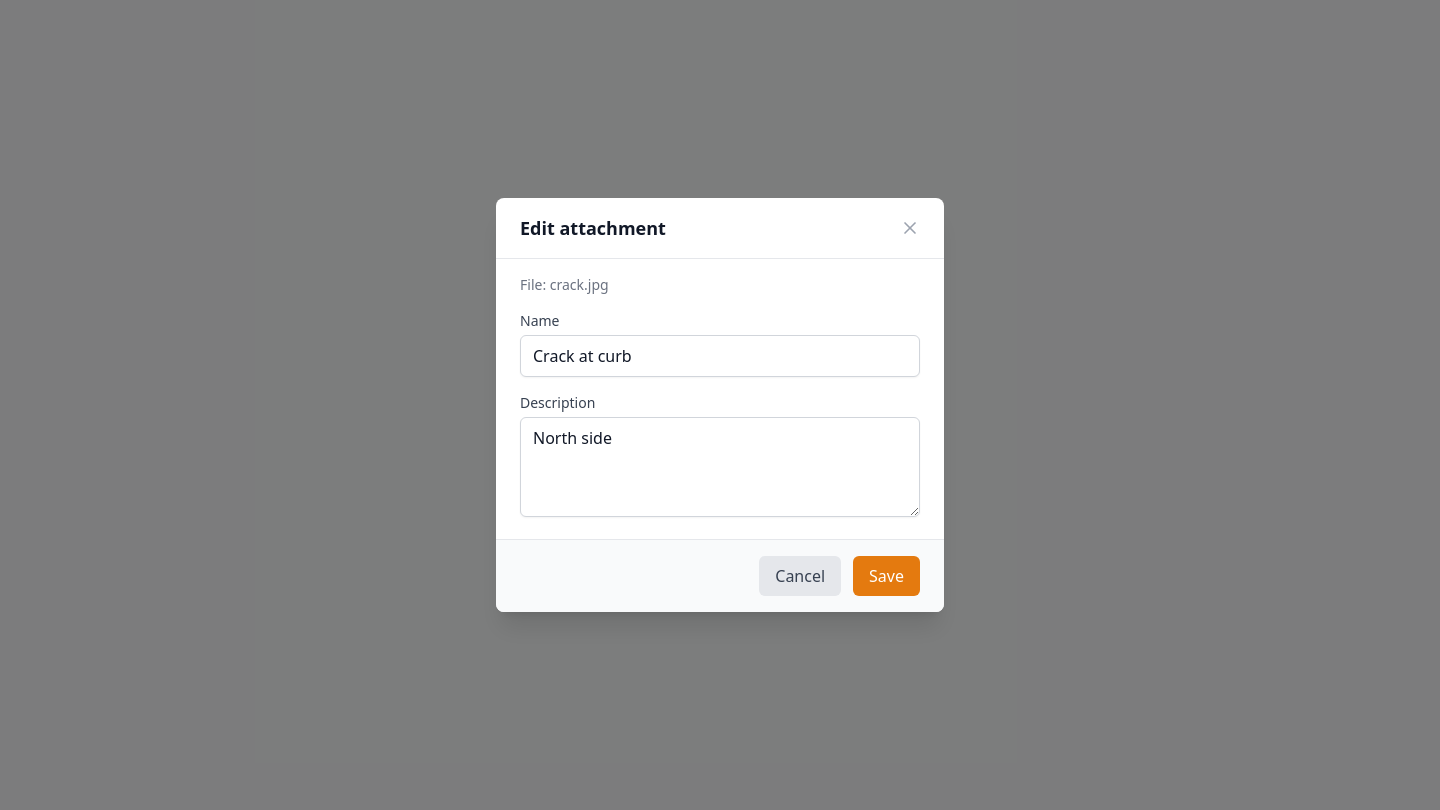
Test: AttachmentEditModal › on failure shows the backend message, stays open and can save again
The width and height of the screenshot is (1440, 810).
Click the button "Save".
click(887, 576)  # box [853,556,920,596]
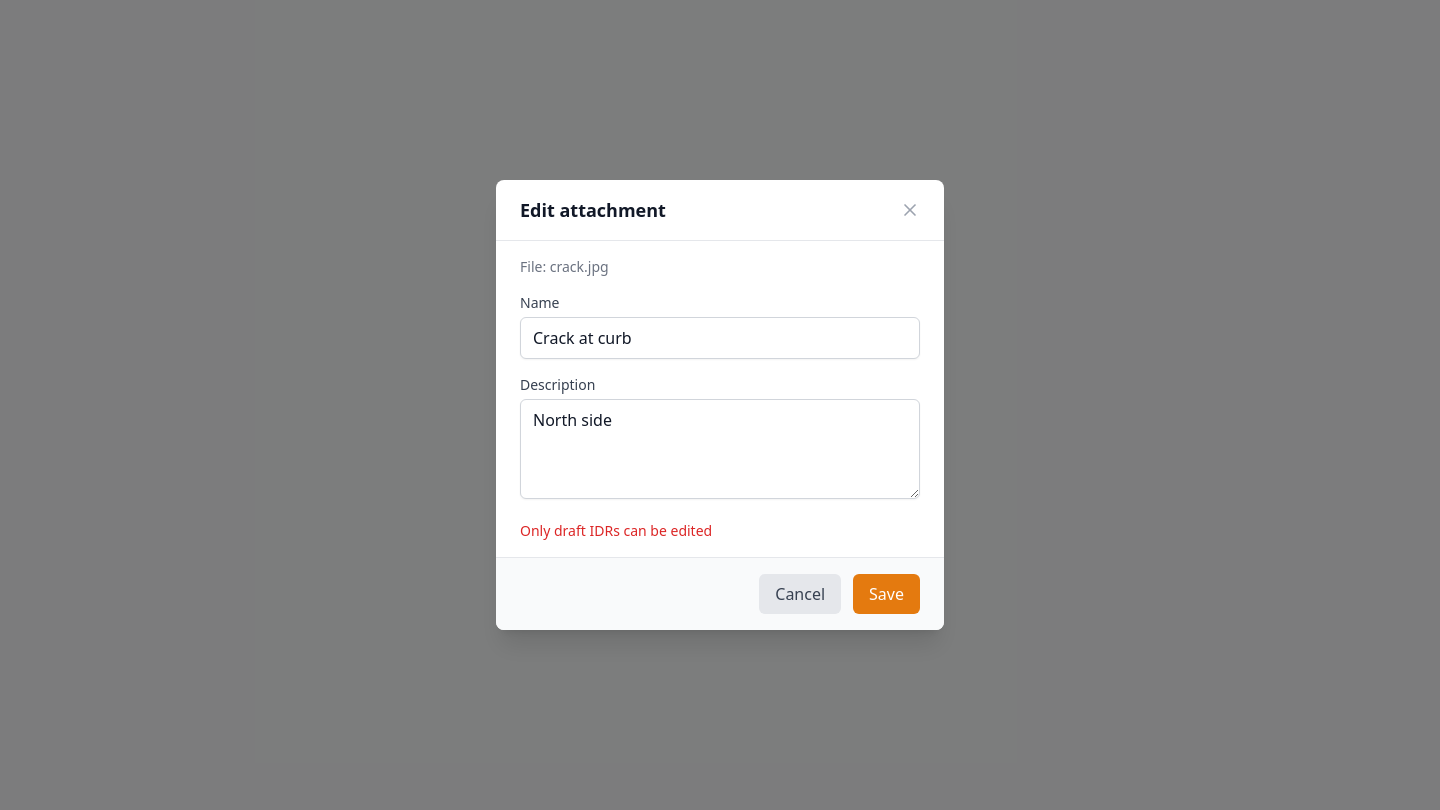
Check: the button "Save" is enabled, box [853,574,920,614]
Check: the message reads "Only draft IDRs can be edited", box [520,521,712,540]
